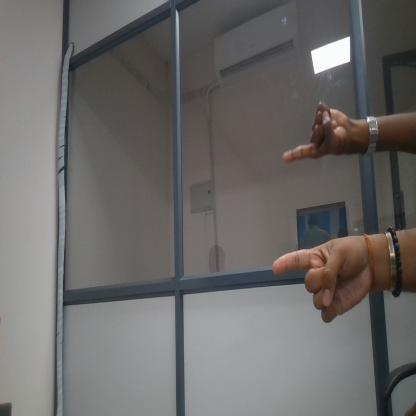Right: (255, 233, 377, 334), (266, 94, 350, 176)
